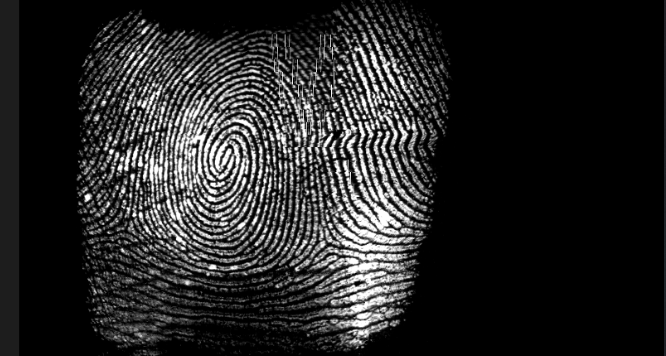deltas: (306, 210, 358, 265), (107, 193, 148, 245)
nucleo: (206, 131, 241, 180)
